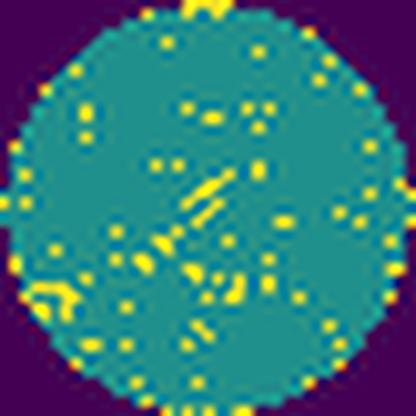Loc: (181, 159, 243, 205), (188, 199, 228, 229)
